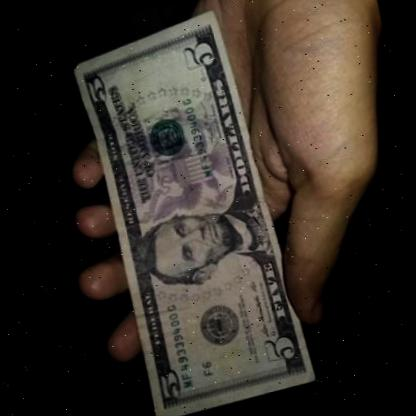five-front: (58, 0, 329, 416)
